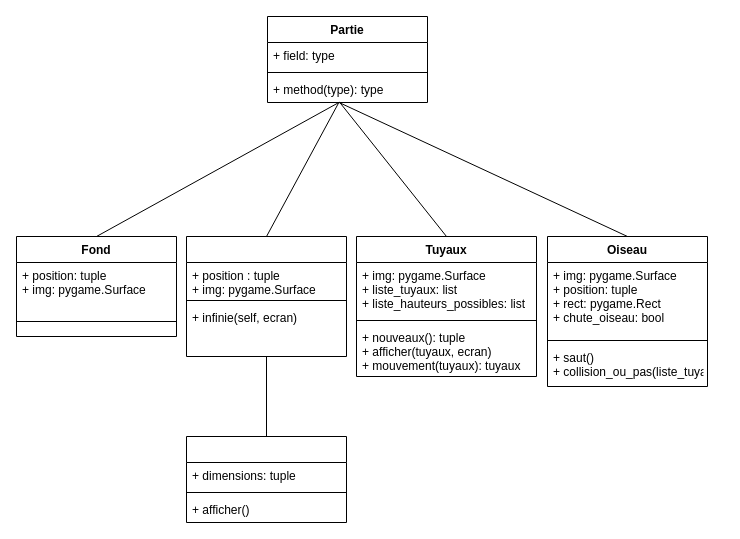
Some shapes in this 740 by 539 pixel diagram are drawn without their labels. Each missing label, with the box of its shape:
Base: (186, 236, 346, 356)
Ecran: (186, 436, 346, 522)
